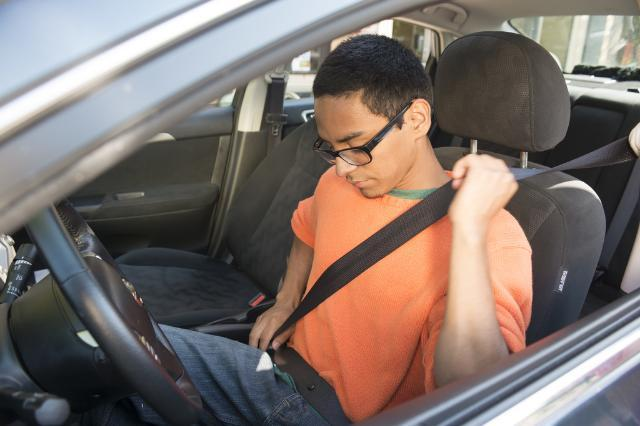Seatbelt: (269, 134, 639, 350), (266, 78, 282, 154)
